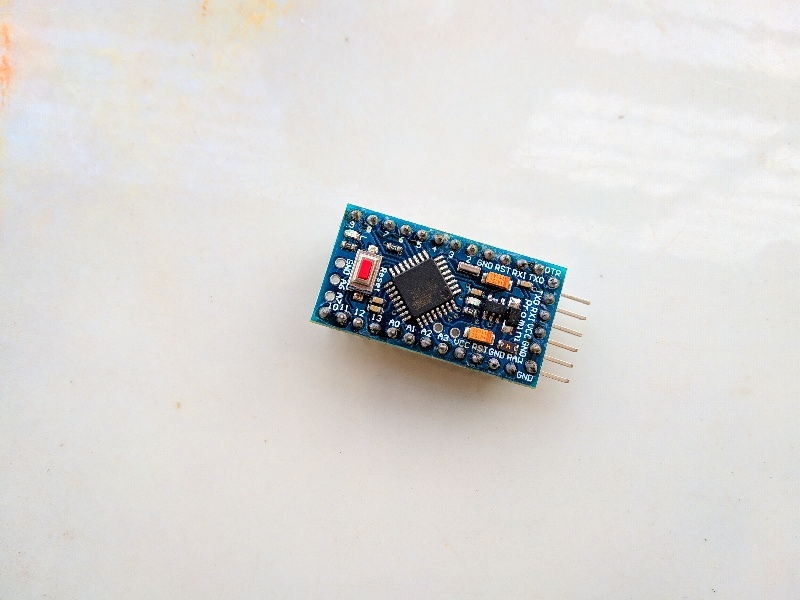Arduino Pro Mini: (304, 199, 570, 398)
